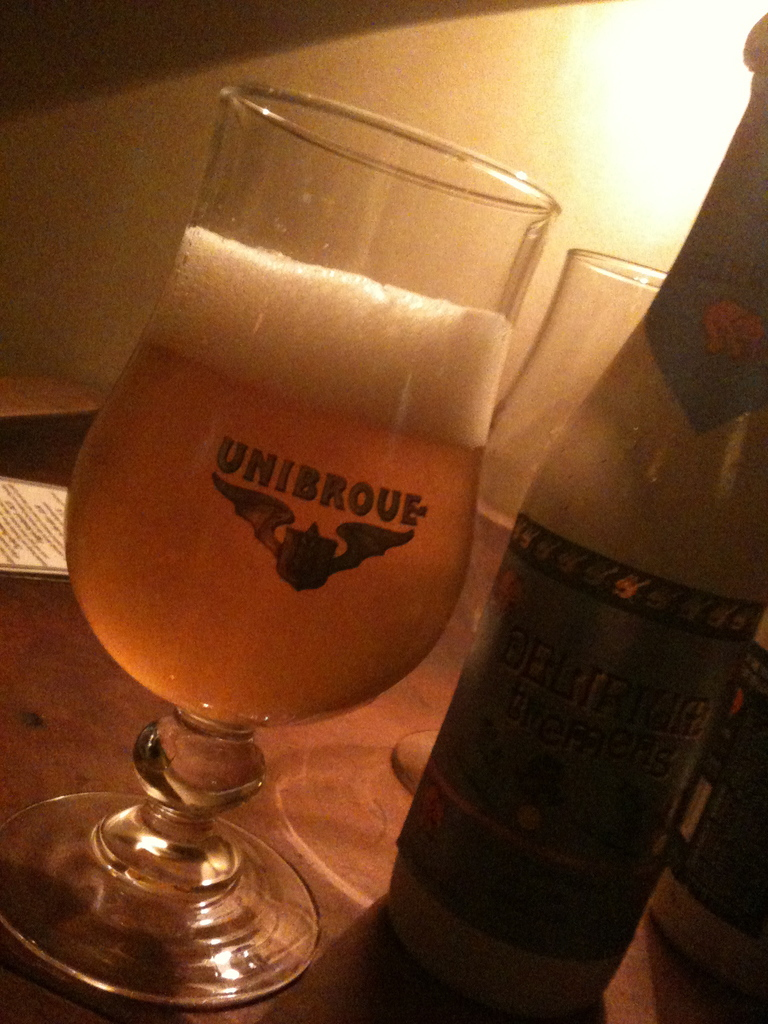Beer: (64, 225, 507, 725)
